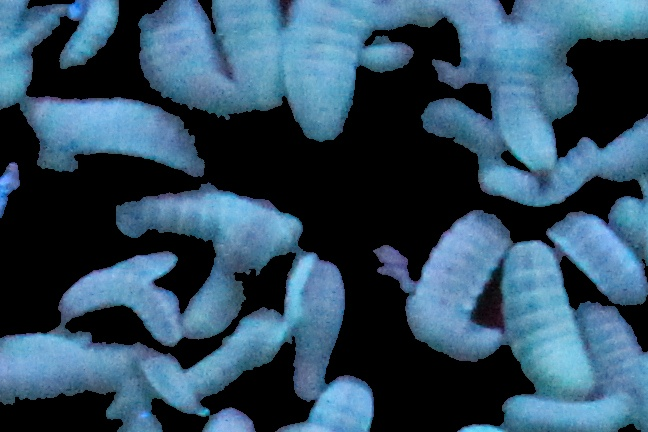larvae: (30, 98, 221, 184), (283, 1, 392, 151), (499, 239, 599, 399), (114, 196, 306, 258), (425, 208, 511, 346), (490, 25, 562, 180), (138, 4, 237, 116), (3, 329, 152, 402), (171, 305, 289, 393), (212, 1, 290, 120), (549, 209, 646, 304), (392, 1, 509, 73), (49, 280, 178, 342), (179, 255, 276, 336), (288, 261, 340, 406), (466, 145, 598, 201), (581, 300, 648, 397), (501, 388, 640, 432), (414, 91, 502, 157), (59, 1, 126, 72), (304, 374, 385, 432), (1, 1, 67, 59), (590, 123, 648, 180), (74, 250, 180, 281)
